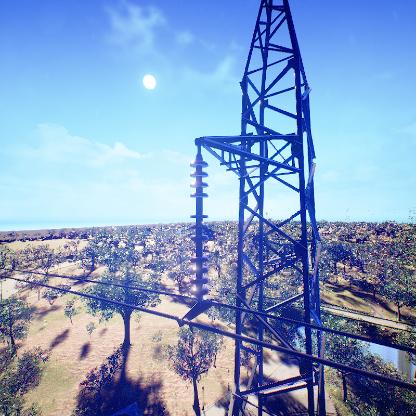insulator: (189, 159, 210, 301)
